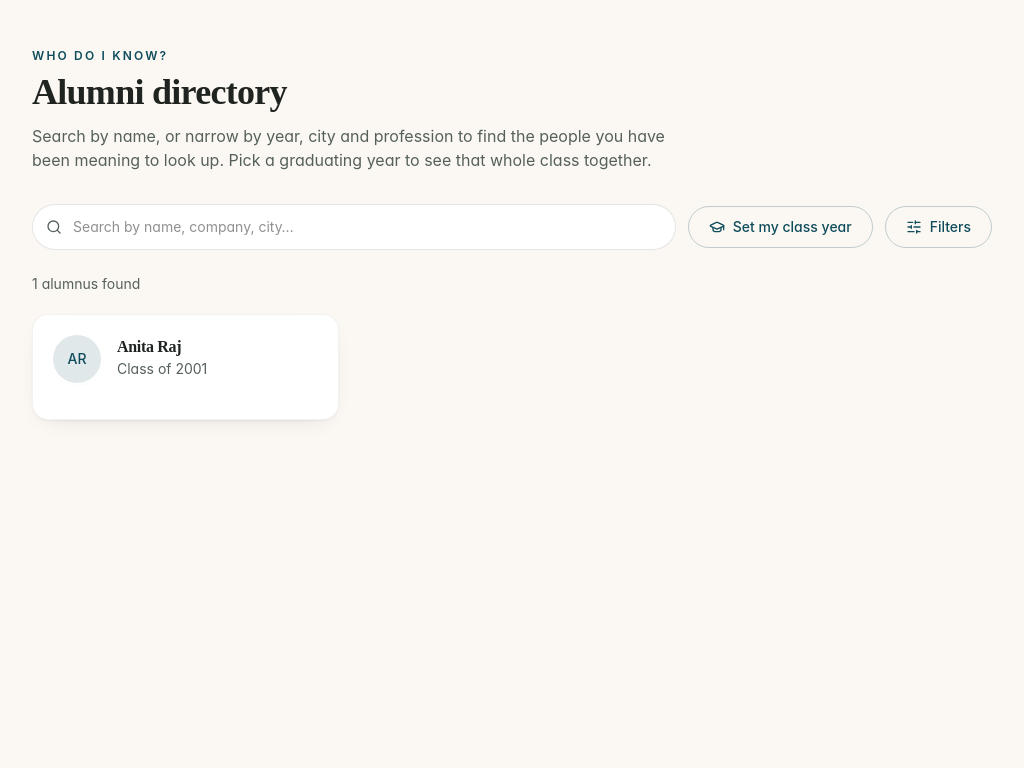
Test: AlumniDirectoryPage › lets a member without a class year set one, then filters by it
The width and height of the screenshot is (1024, 768).
Click the button "Set my class year".
click(780, 227)  # box [688, 206, 873, 248]
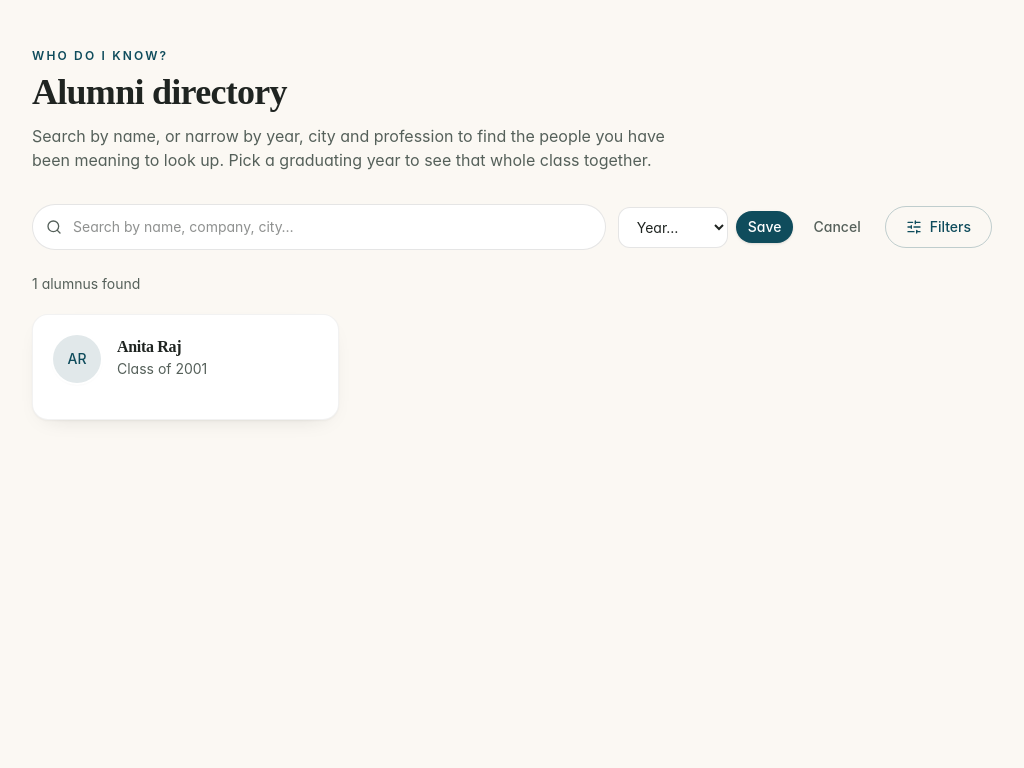
Select "2001" in the dropdown named "Your graduating year" at (673, 227), box [618, 206, 728, 248]
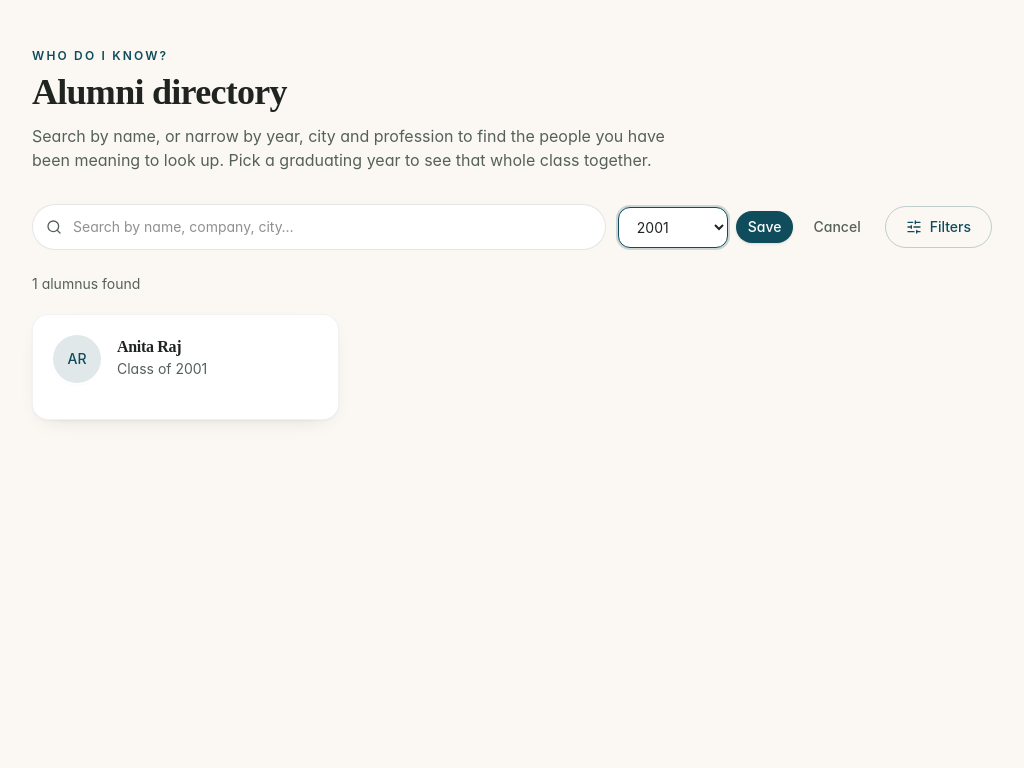
Click the button "Save".
click(765, 227)  # box [736, 211, 794, 243]
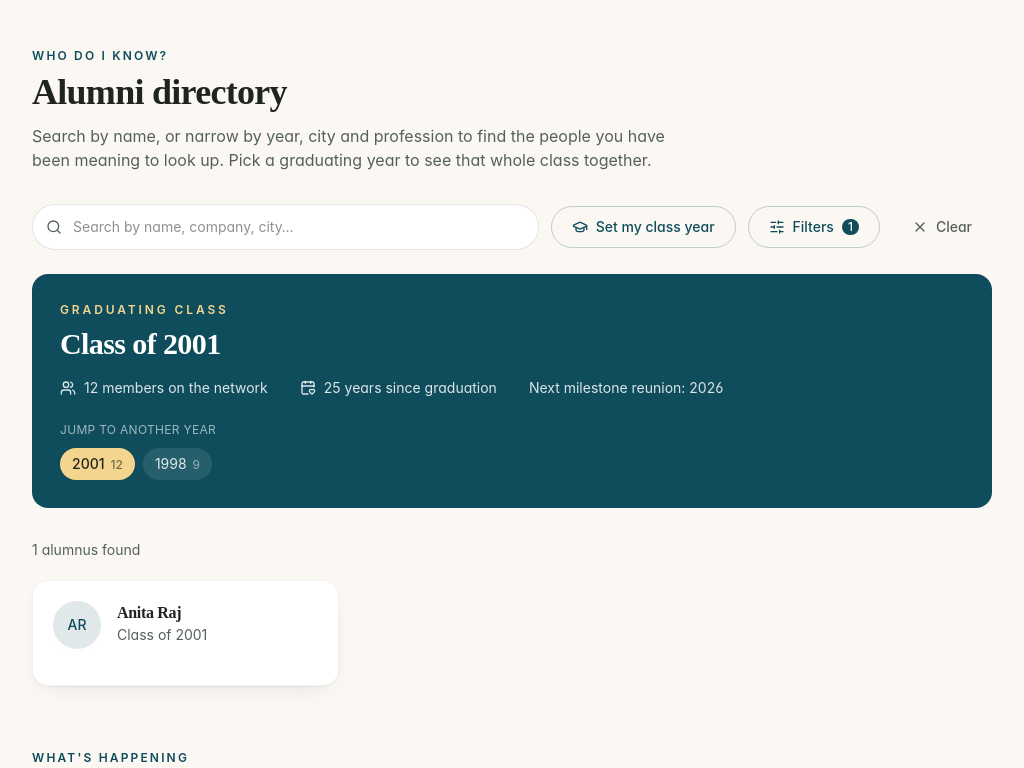
Result: the heading "Class of 2001" is shown at [60, 327, 221, 360]
